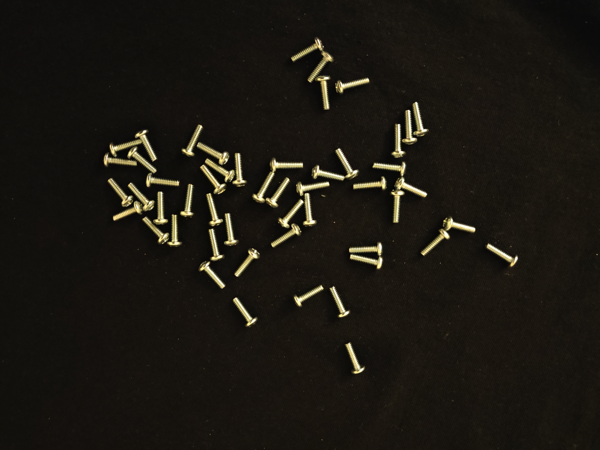shortscrew: (307, 50, 336, 85), (127, 146, 160, 176), (290, 36, 325, 64), (420, 229, 453, 257), (181, 123, 205, 160), (486, 244, 521, 269), (200, 164, 228, 195), (270, 223, 302, 250), (232, 297, 259, 329), (335, 147, 361, 180), (196, 141, 230, 166), (251, 171, 276, 205), (234, 248, 261, 279), (277, 199, 304, 230), (409, 101, 431, 139), (204, 158, 236, 184), (266, 177, 292, 209), (135, 128, 158, 164), (345, 340, 367, 377), (128, 183, 156, 212), (143, 217, 171, 246), (197, 261, 226, 289), (107, 178, 134, 208), (330, 285, 352, 321), (109, 137, 144, 159), (394, 177, 428, 199), (294, 284, 325, 308), (335, 77, 371, 97), (315, 76, 334, 112), (312, 164, 347, 183), (112, 203, 143, 224), (349, 254, 385, 272), (205, 193, 224, 227), (443, 216, 477, 235), (103, 152, 138, 170), (352, 175, 389, 192), (207, 229, 226, 262), (180, 183, 197, 219), (232, 152, 249, 188), (223, 213, 241, 247), (403, 109, 419, 147), (372, 160, 407, 177), (297, 180, 330, 198), (153, 191, 169, 226), (167, 214, 183, 249), (270, 157, 305, 173), (302, 193, 318, 227), (145, 173, 181, 188), (390, 188, 405, 224), (391, 124, 406, 160), (349, 242, 384, 257)
